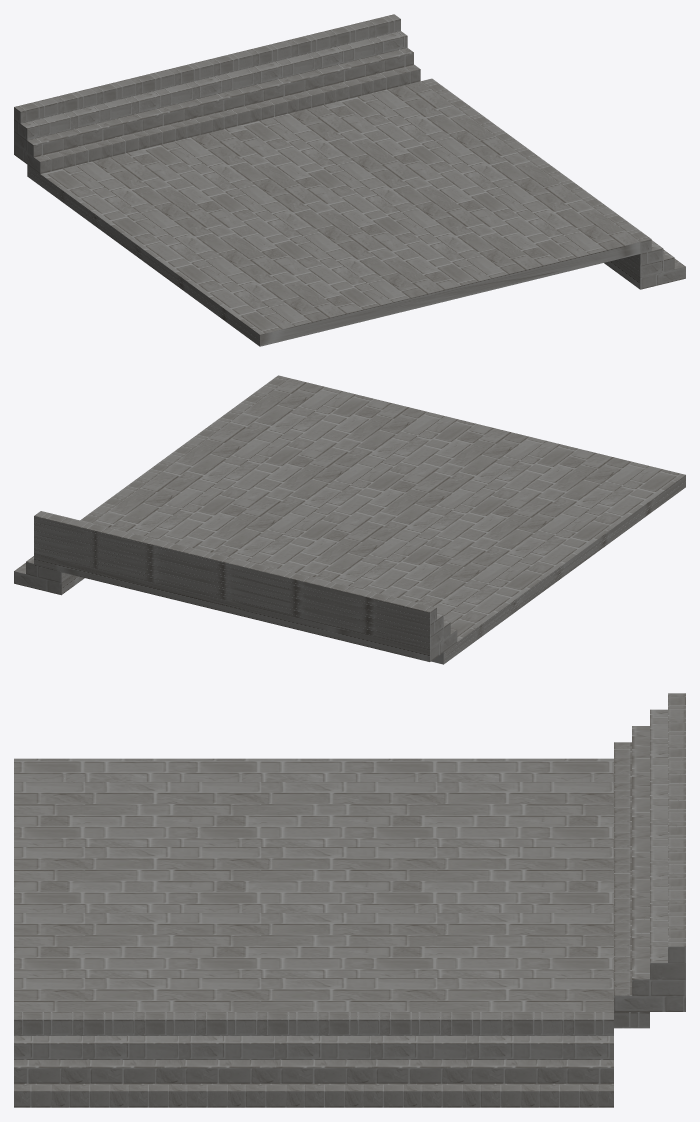
Rendered from EscaliersQuiTourneDroit.fbx.
3 renders of one model, top to bottom at view 1: azimuth 30°, elevation 25°; view 2: azimuth 150°, elevation 25°; view 3: azimuth 270°, elevation 25°, orthographic. The views are drawn at different scales.
Visible parts, largest first — view 1: EscalierDroit; view 2: EscalierDroit; view 3: EscalierDroit.
Part boxes in pixels (x1,y1,x2,y2): EscalierDroit: [14, 14, 685, 346]; EscalierDroit: [14, 375, 685, 664]; EscalierDroit: [14, 693, 685, 1107].
Size of the model in its own units: 1120 by 240 by 1120.
